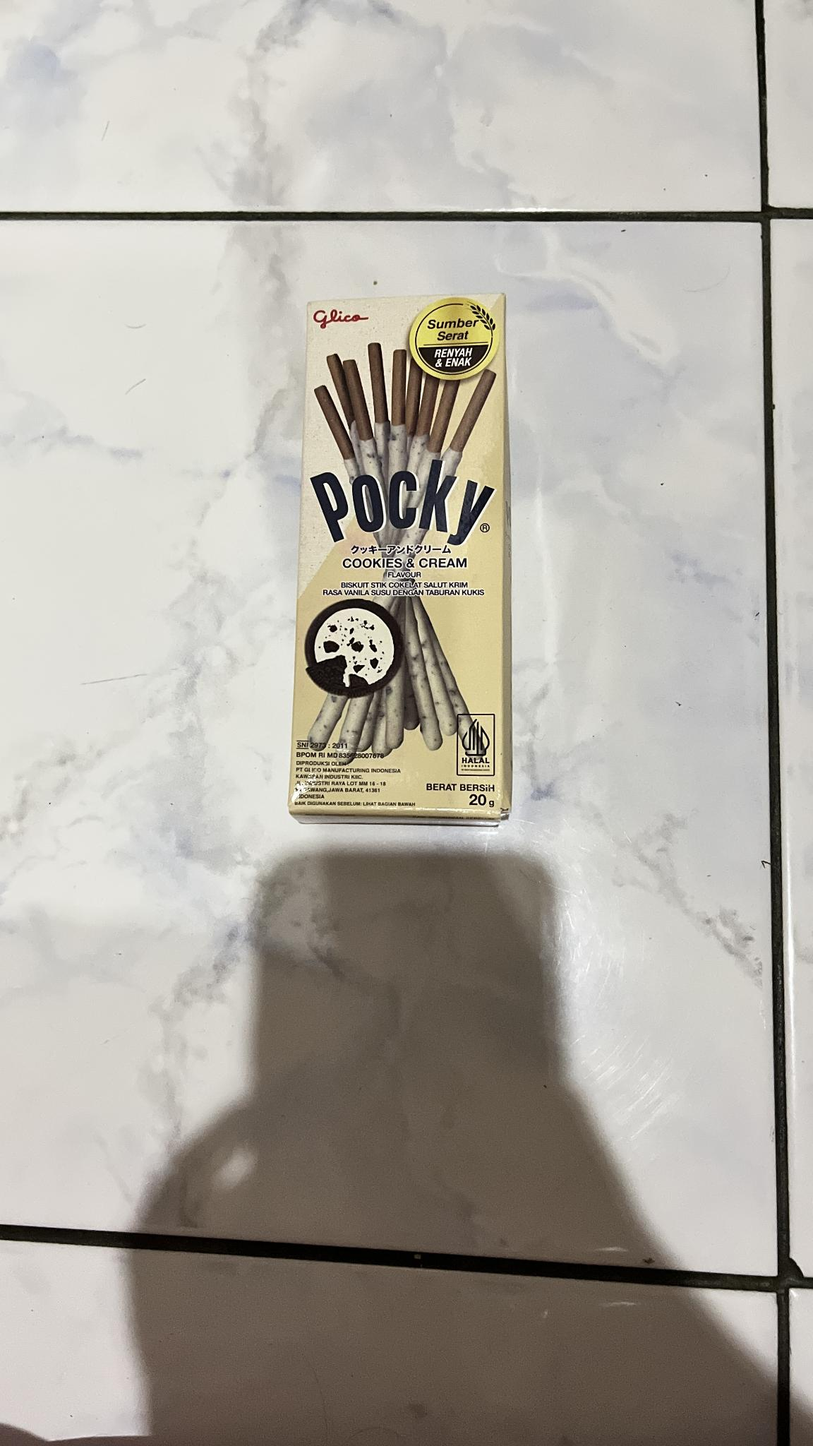Kertas: (287, 283, 520, 814)
